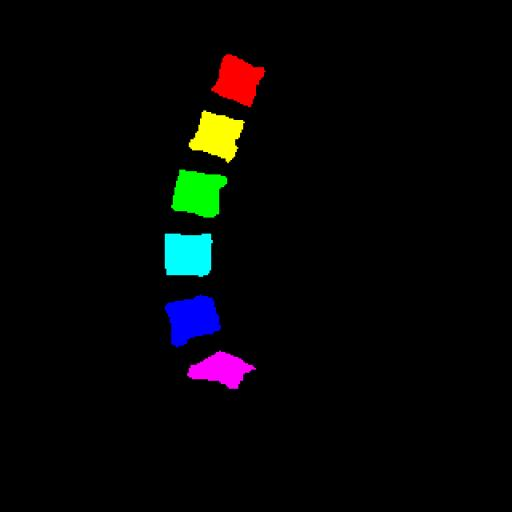L1: (211, 54, 265, 107)
L2: (189, 110, 244, 163)
L3: (171, 170, 227, 218)
L4: (165, 233, 212, 277)
L5: (165, 295, 221, 347)
S1: (187, 351, 256, 389)
